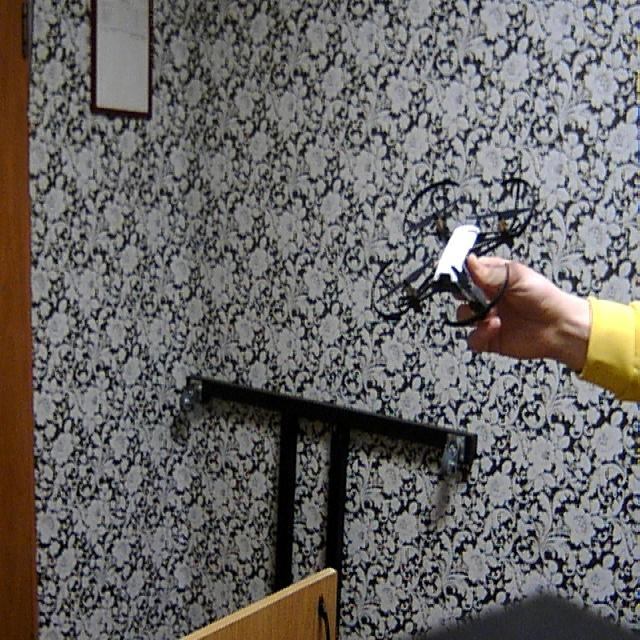drone: (364, 168, 539, 350)
